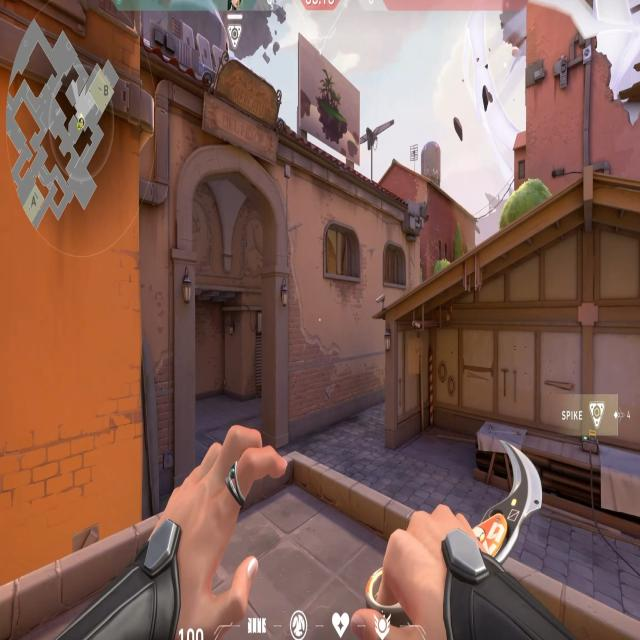B_Garage_Left: (383, 306, 490, 460)
Throwables: (319, 214, 366, 290), (379, 236, 410, 296)
